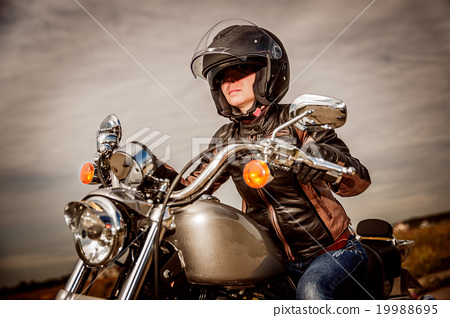helmet: (201, 27, 289, 112)
